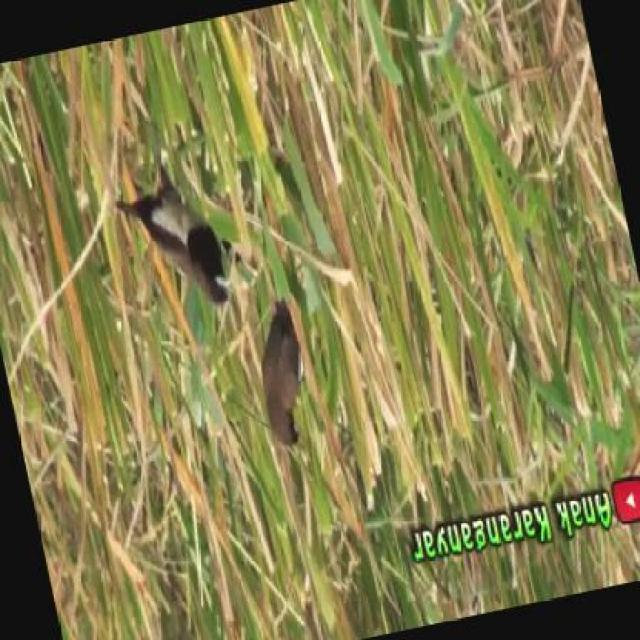Bird: (111, 159, 233, 307), (257, 297, 303, 448)
